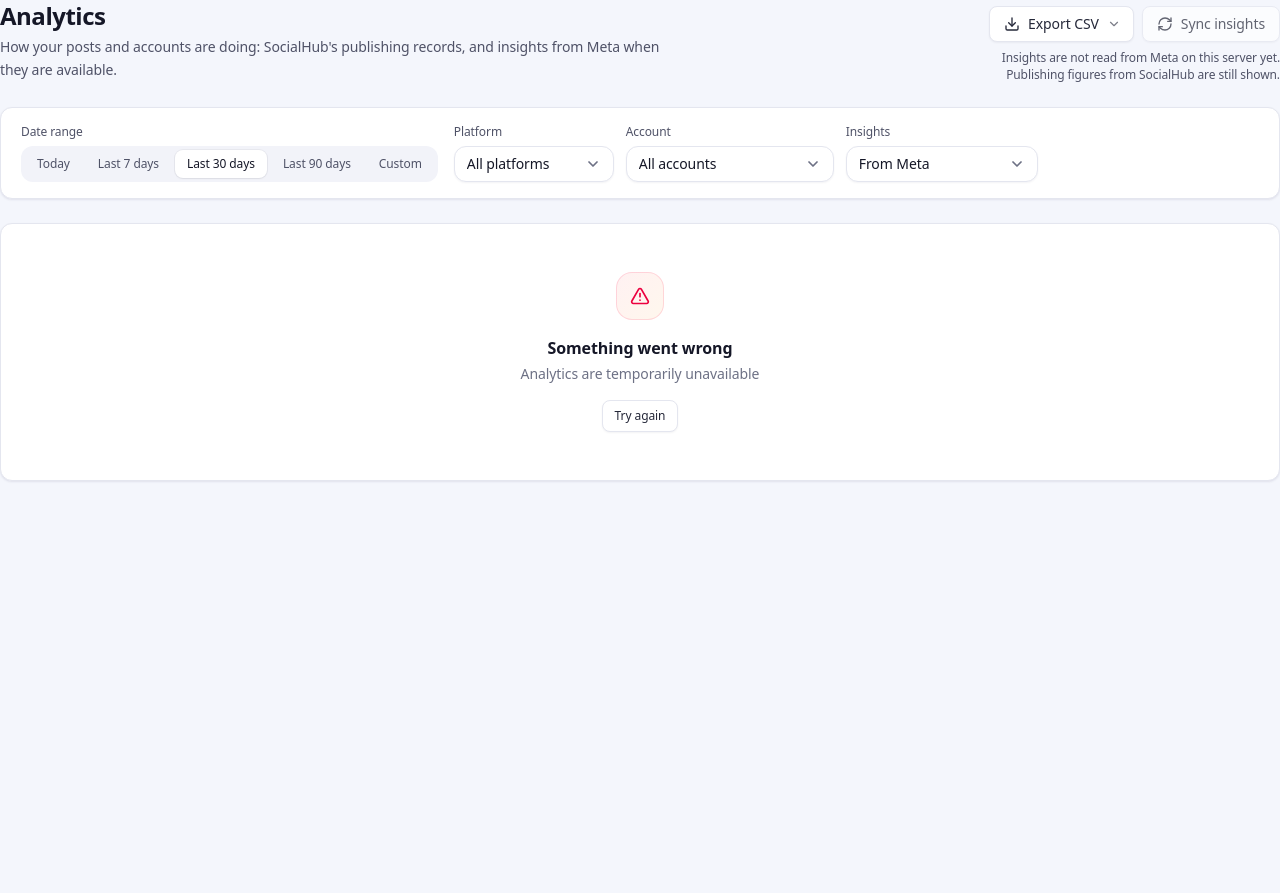
Test: loading and states › shows an error with a retry
The image size is (1280, 893).
Expected: the text "Analytics are temporarily unavailable" is shown, [521,364,760,384]
Click the button "Try again".
click(640, 416)  # box [602,400,678,432]
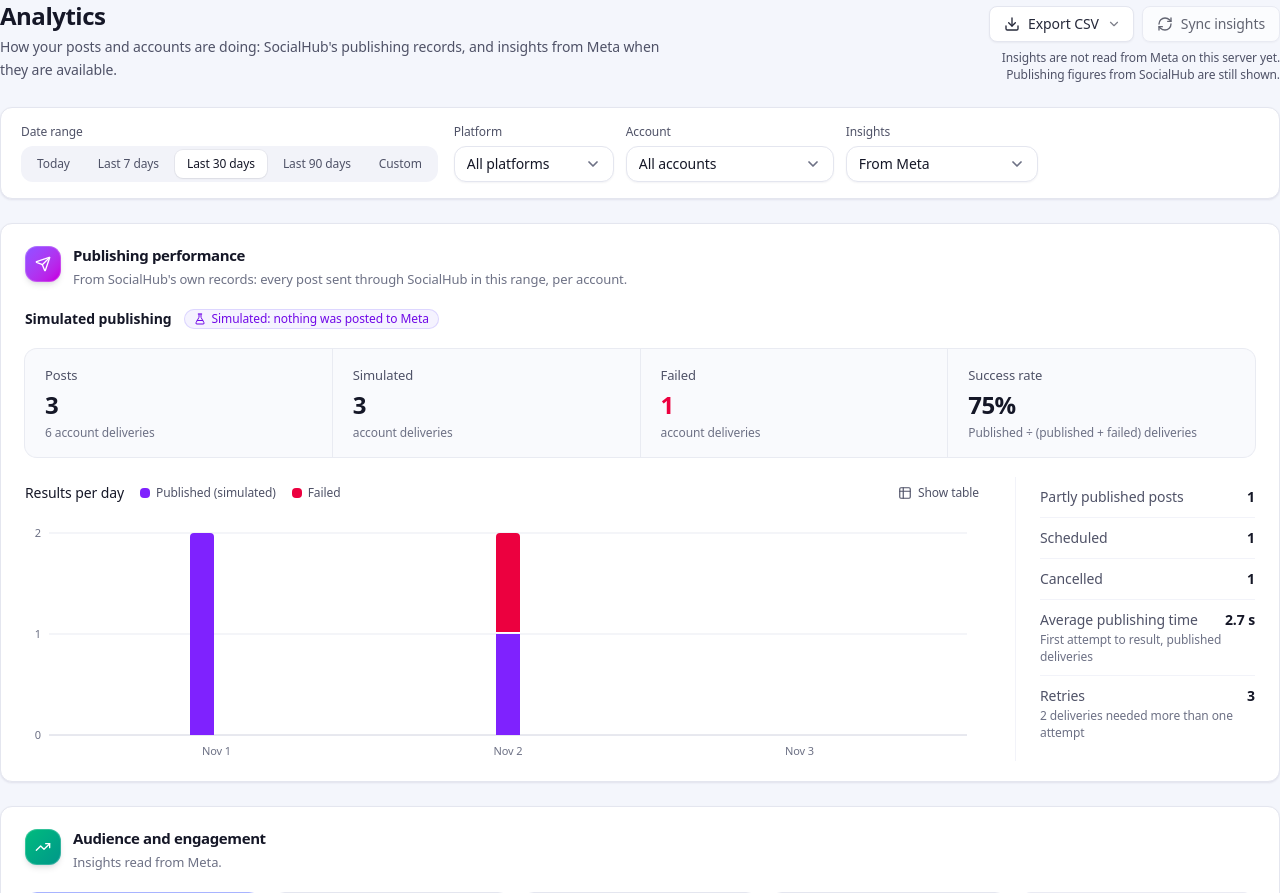
Expected: the element "Publishing performance" is shown
